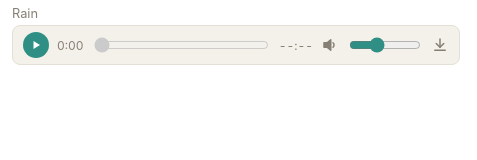
AudioPlayer › saves the song where the user picks, named after its title
Click the button named "Save Rain as…" at (440, 45), box [431,36,449,54]
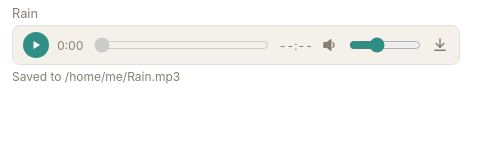
Check: the text "Saved to /home/me/Rain.mp3" is shown, box [12,69,180,84]
